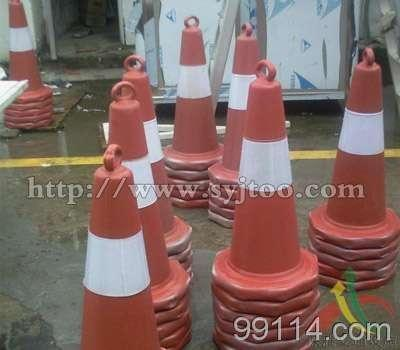cone_barrel: (218, 60, 308, 283), (75, 146, 158, 348), (312, 46, 394, 232), (106, 99, 171, 287), (120, 60, 179, 240), (167, 18, 219, 159), (218, 23, 258, 172), (3, 3, 50, 97)
